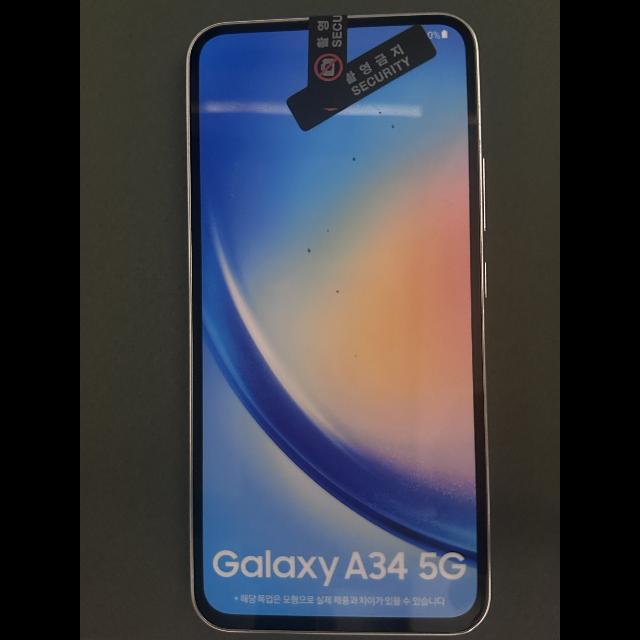phone: (185, 13, 492, 635)
sticker: (285, 25, 439, 130), (307, 15, 348, 108)
